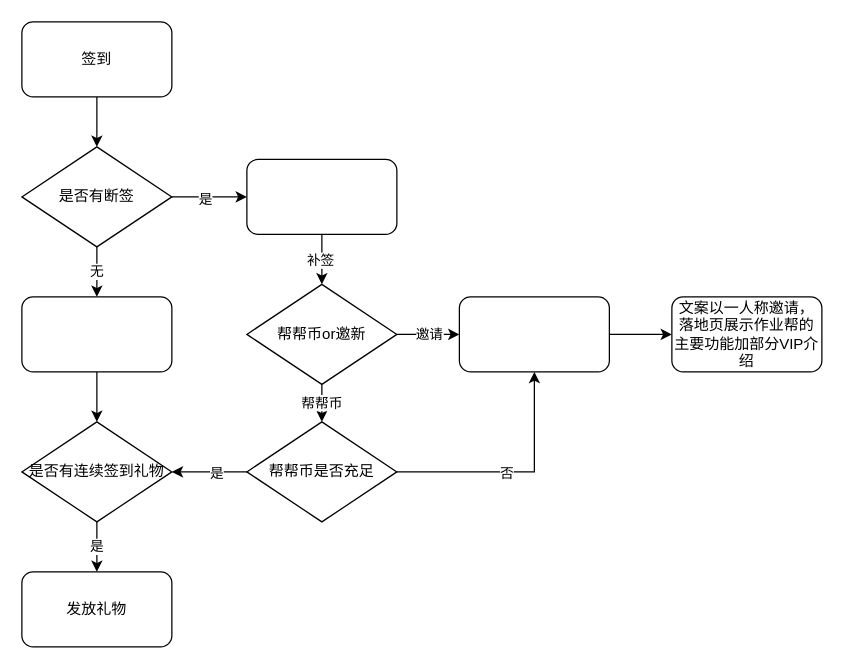
The diagram is 844 pixels wide and 669 high, and some of its shapes have lost their labels. The centre of each missing label's shape, as x and y in pixels:
"提醒补签" goes at point 321,196.
"签到成功，发放帮帮币" goes at point 96,334.
"邀请拉新" goes at point 533,334.
